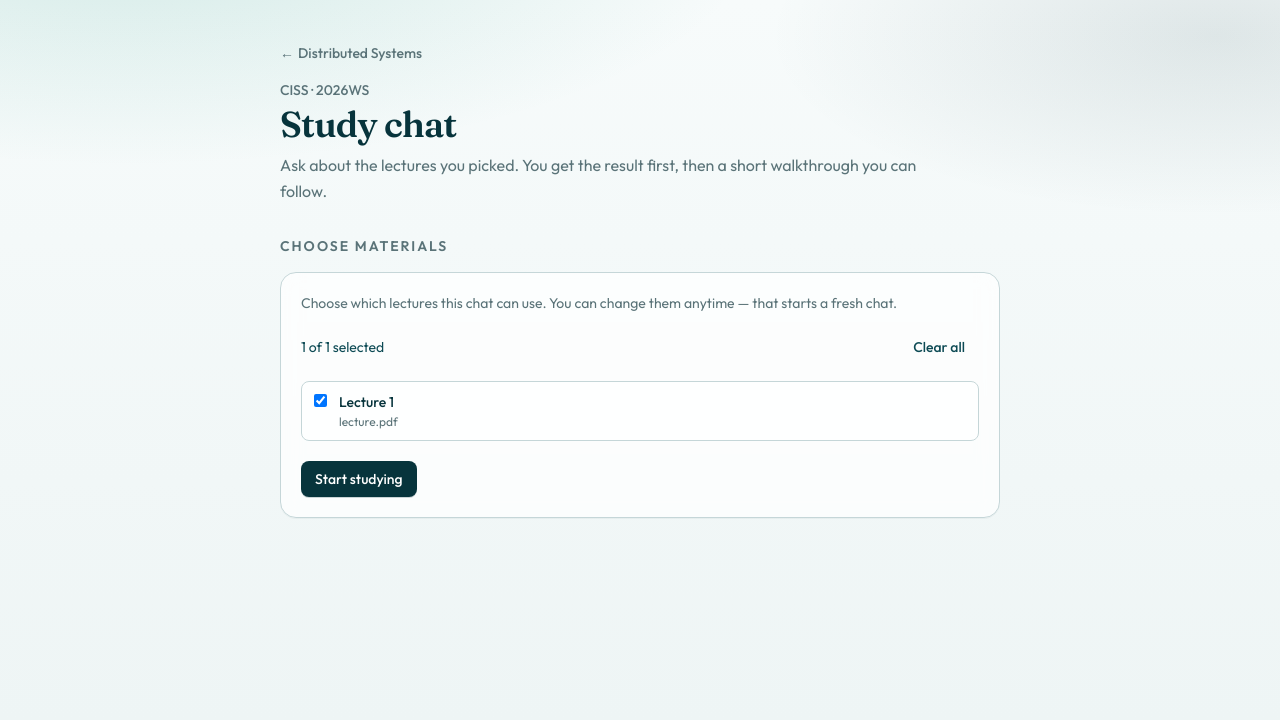
Test case: course study chat page › retries a failed message from Try again
Click the button "Start studying" at (359, 479), box [301,461,417,497]
(page scrolled)
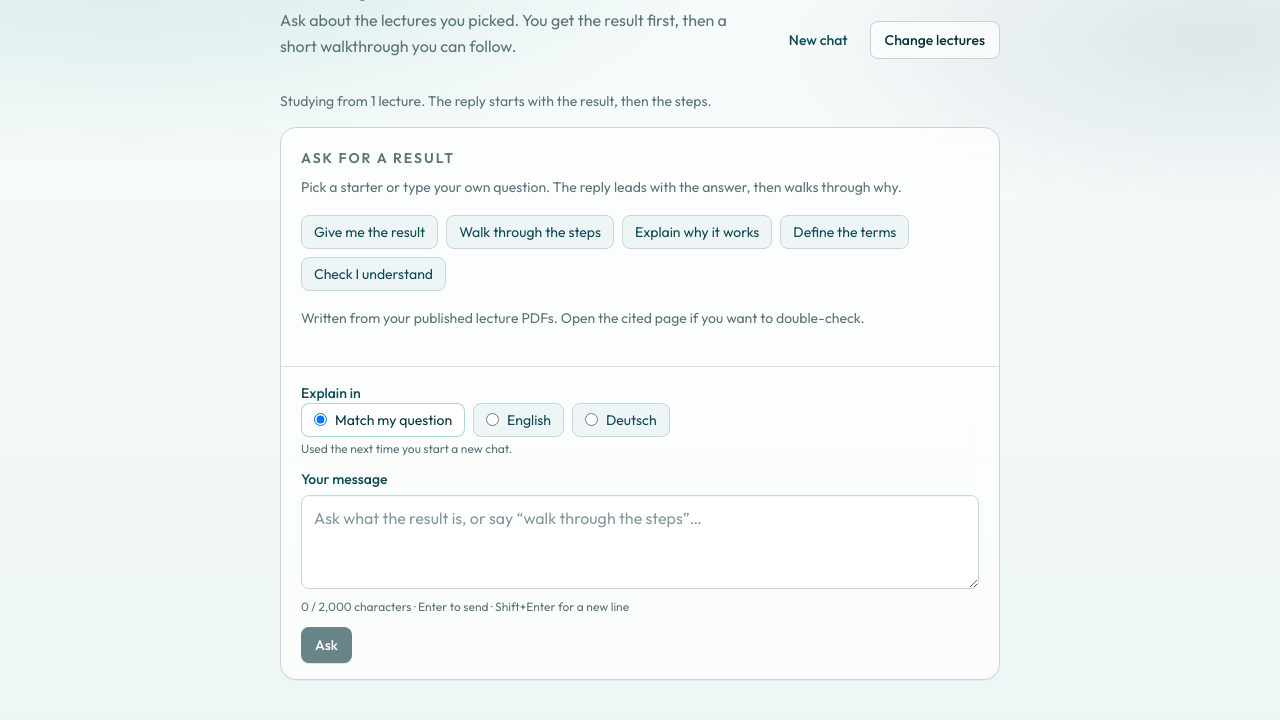
Type "What is consensus?" into the text box labelled "Your message" at (640, 542), box [301,494,979,588]
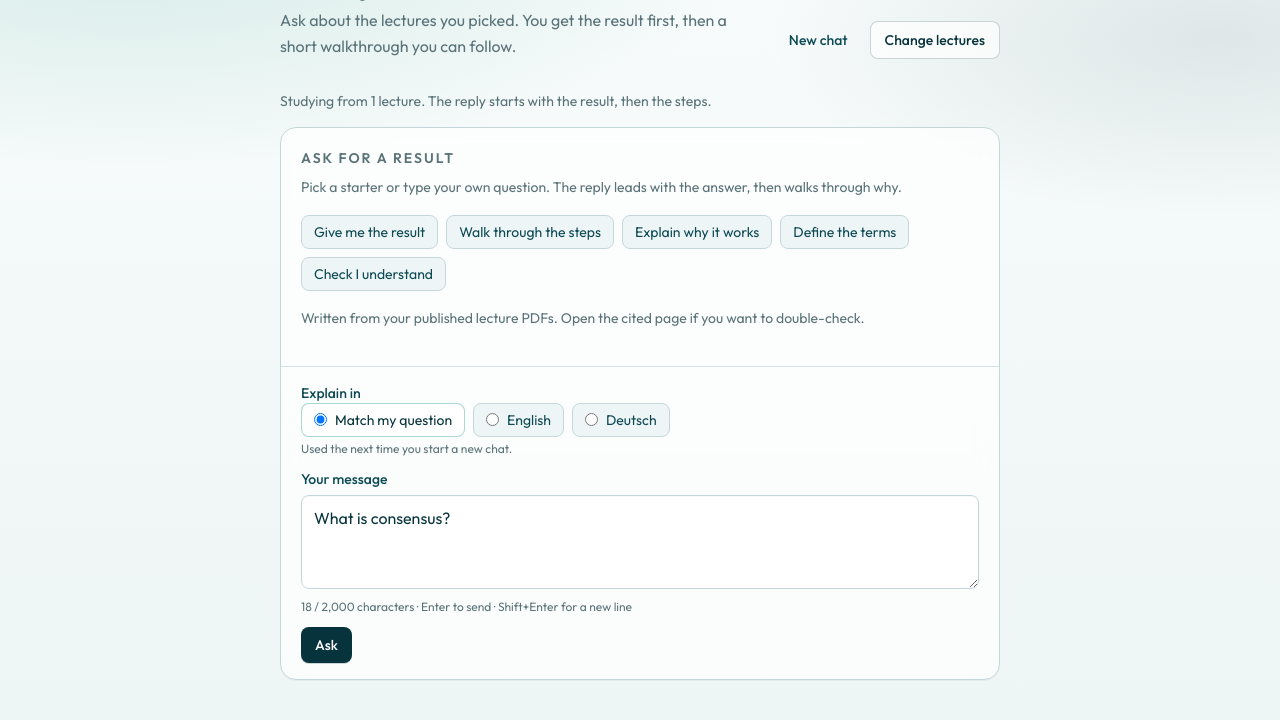
Click the button "Ask" at (326, 644), box [301,626,352,662]
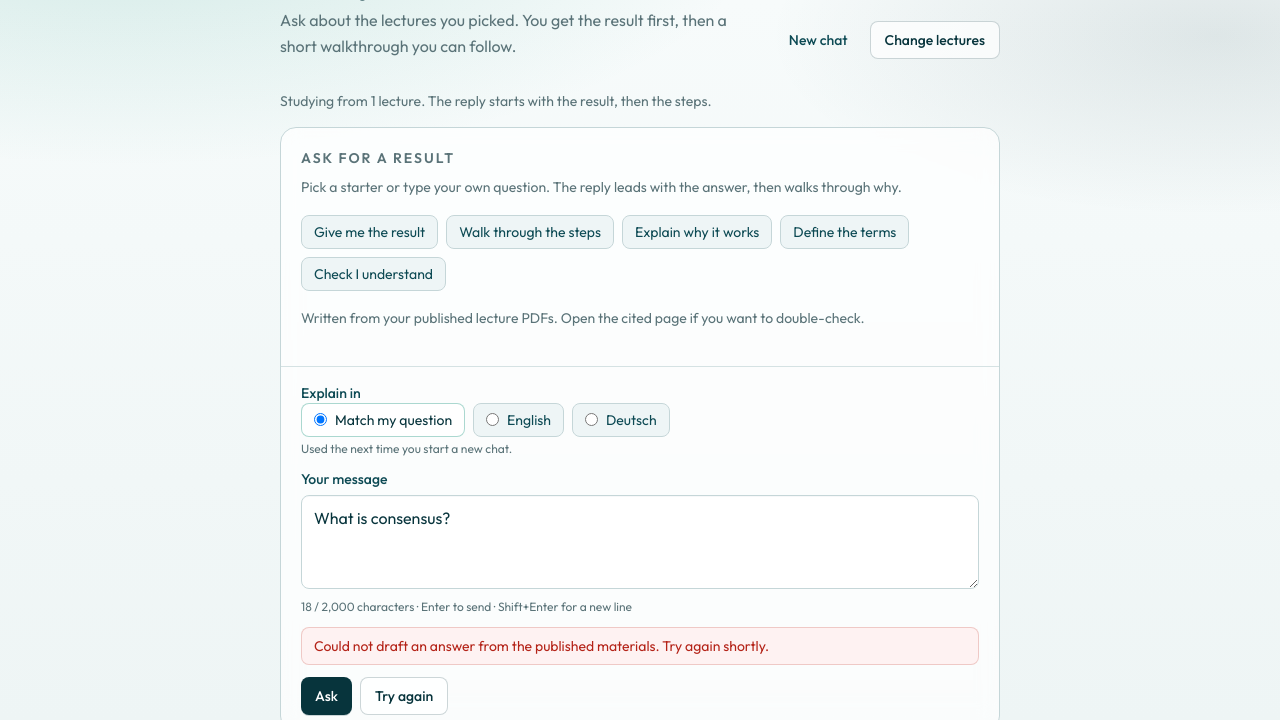
Expected: the text "Could not draft an answer from the published materials. Try again shortly." is shown, [301,626,979,664]
Click the button "Try again" at (404, 696), box [360,676,448,714]
(page scrolled)
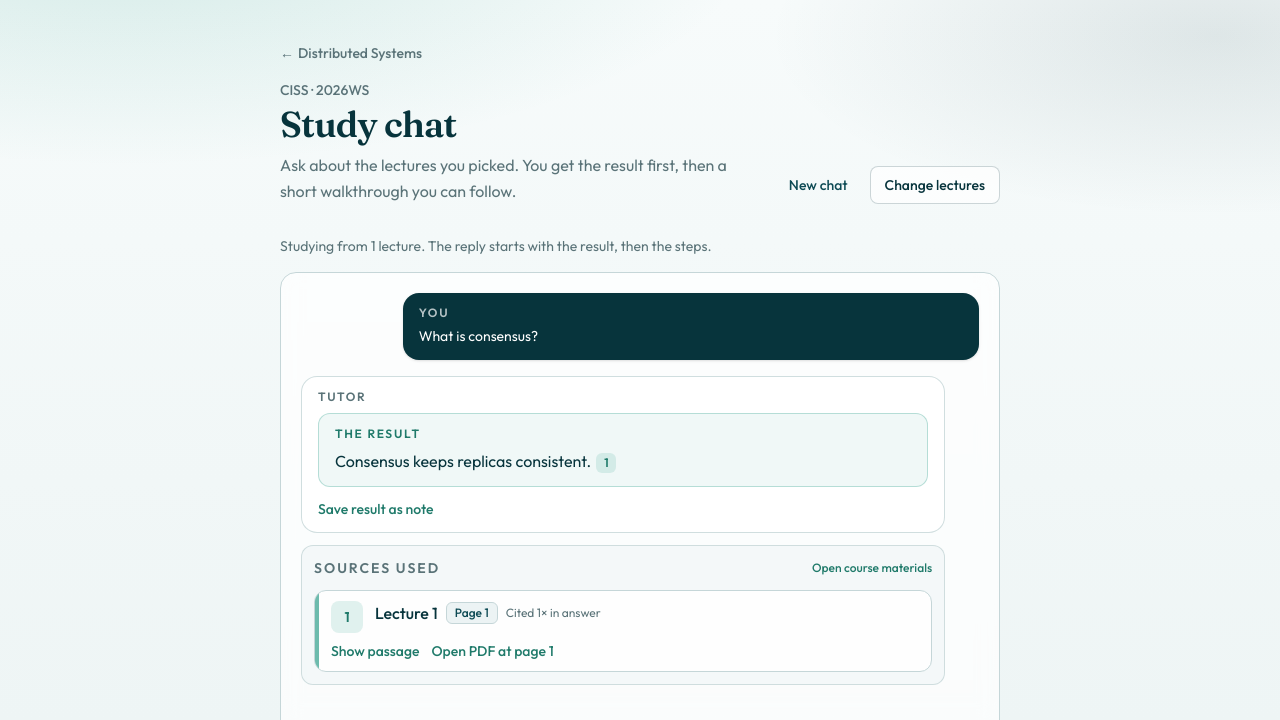
Expected: the heading "The result" is shown, [335,426,421,441]
